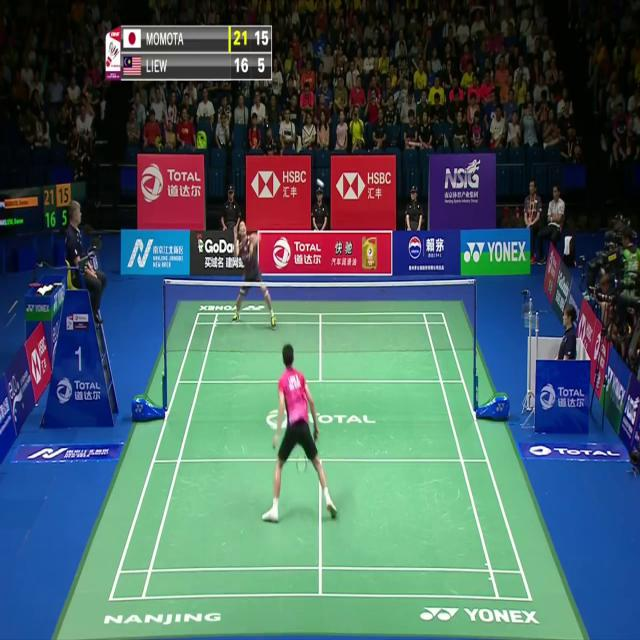Shuttlecock: (318, 176, 324, 188)
